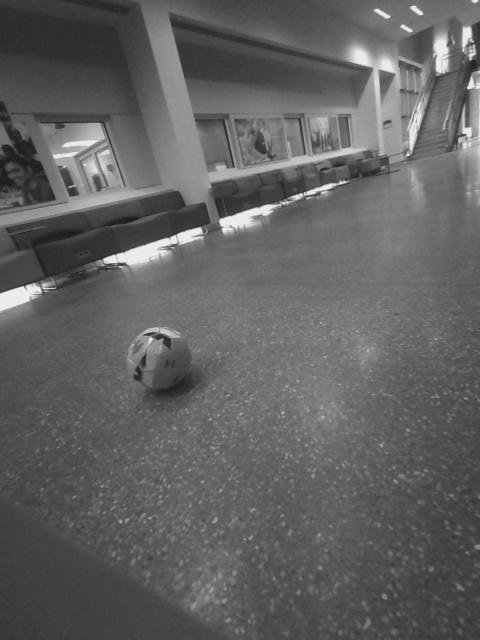ball: (119, 325, 197, 394)
